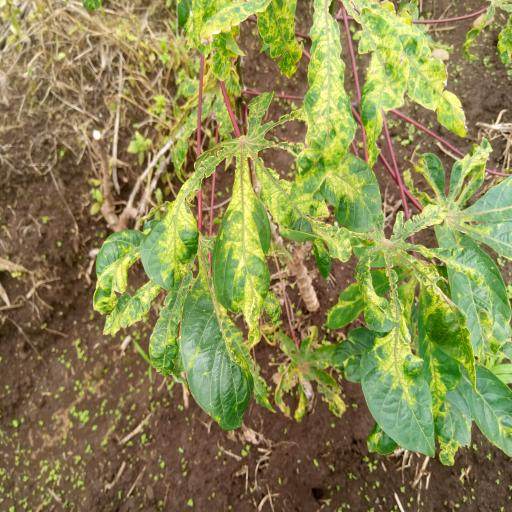Cassava_Mosaic: (329, 164, 512, 446), (154, 116, 322, 333), (309, 0, 456, 150)
